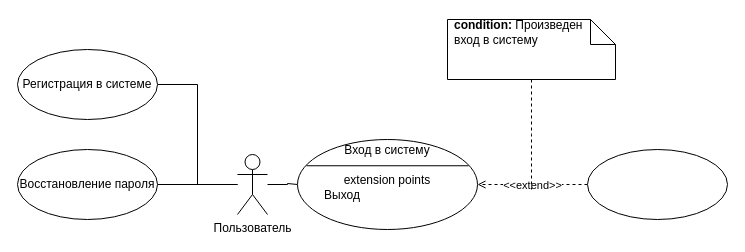
This 745x252 diagram has some shape labels left out. The centre of each missing label's shape, as x and y in pixels:
extension point: Выход: point (531, 49)
Выход из системы: point (657, 184)
